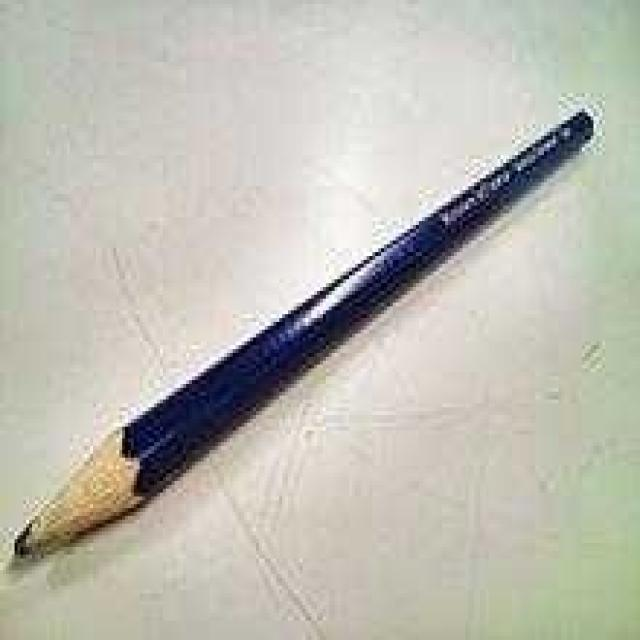pencil: (0, 88, 609, 579)
